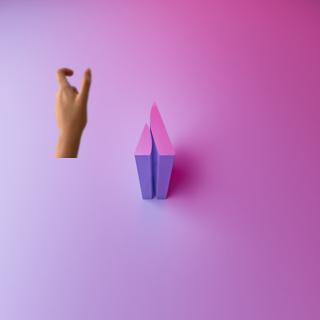Irritated: (48, 61, 97, 156)
